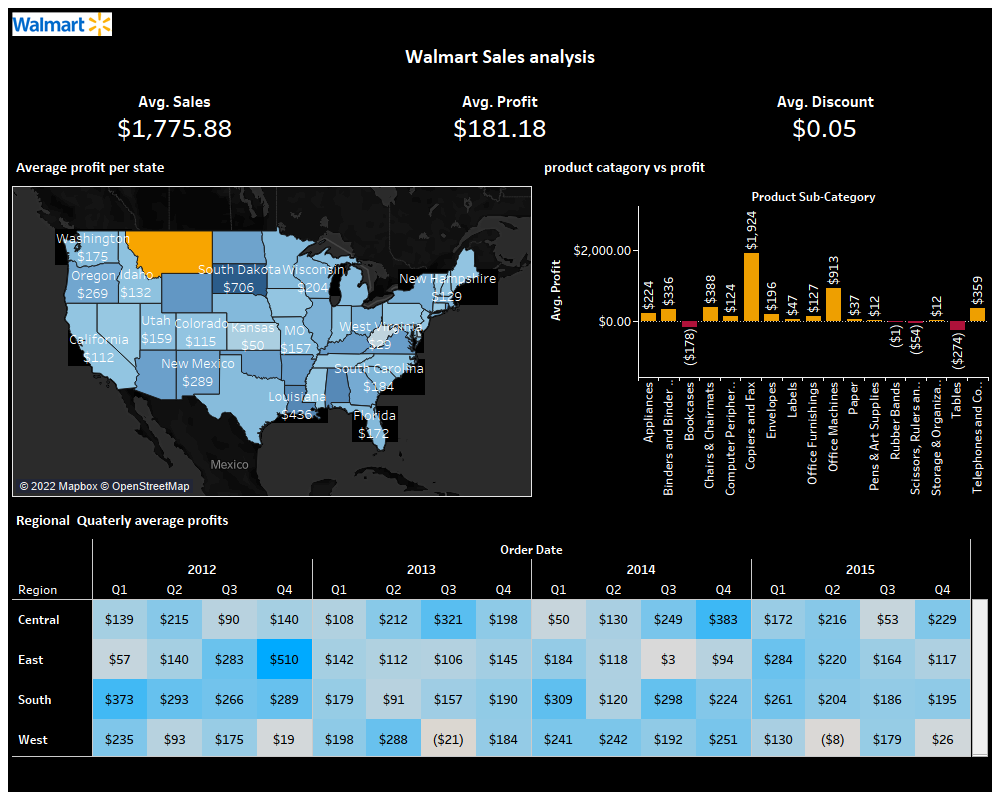

Layout of this report page (visuals, bound fields, positions):
{"tool":"tableau","page":{"name":"Dashboard 1","canvas":[1000,800],"ordinal":0},"visuals":[{"type":"image","param":"C:/Users/HP/Downloads/walmart.png","box":[8,8,984,32]},{"type":"title","box":[8,40,984,32]},{"type":"worksheet","title":"Avg Measures","mark":"Automatic","box":[8,72,984,76]},{"type":"worksheet","title":"state vs profit","mark":"Multipolygon","box":[8,148,528,353]},{"type":"worksheet","title":"product sub-category vs profit","mark":"Automatic","rows":["Profit"],"cols":["Product Sub-Category"],"box":[536,148,456,353]},{"type":"worksheet","title":"regional profits","mark":"Square","rows":["Region"],"cols":["Order Date","Order Date"],"box":[8,501,984,260.3]},{"type":"blank","box":[8,761.3,984,30.7]}]}

Visuals, with their boxes in screenshot pixels (x1, y1, x2, y2), scaled from the page's 1000x800 canvas onto the 1000x800 screenshot:
image: [8, 8, 992, 40]
title: [8, 40, 992, 72]
"Avg Measures" worksheet: [8, 72, 992, 148]
"state vs profit" worksheet (Multipolygon marks): [8, 148, 536, 501]
"product sub-category vs profit" worksheet: [536, 148, 992, 501]
"regional profits" worksheet (Square marks): [8, 501, 992, 761]
blank: [8, 761, 992, 792]
